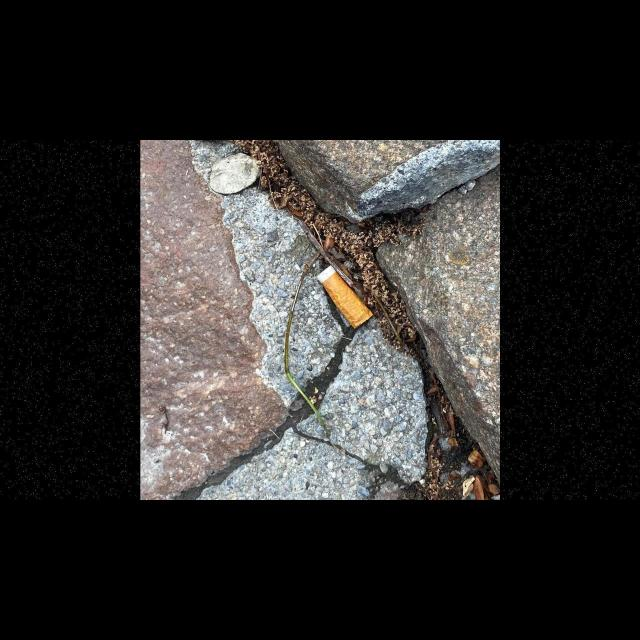cigarette: (316, 265, 374, 329)
